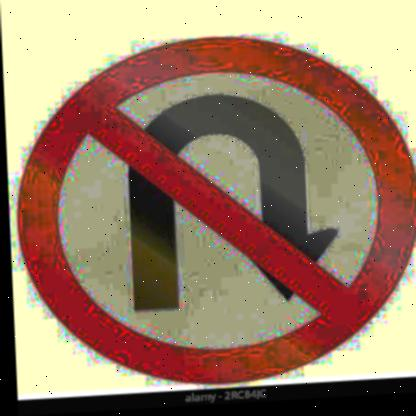No U-turn: (14, 29, 416, 400)
